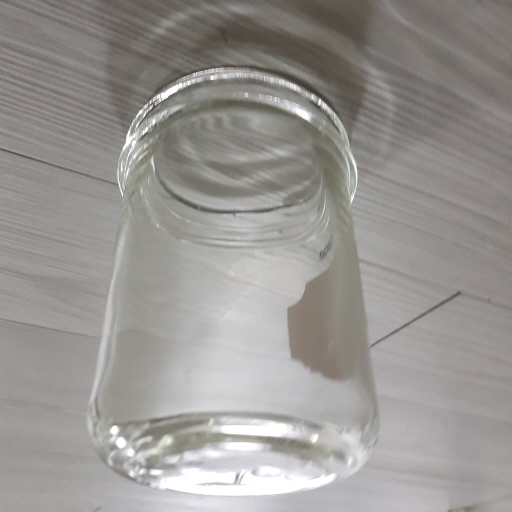Glass_5: (87, 68, 377, 496)
